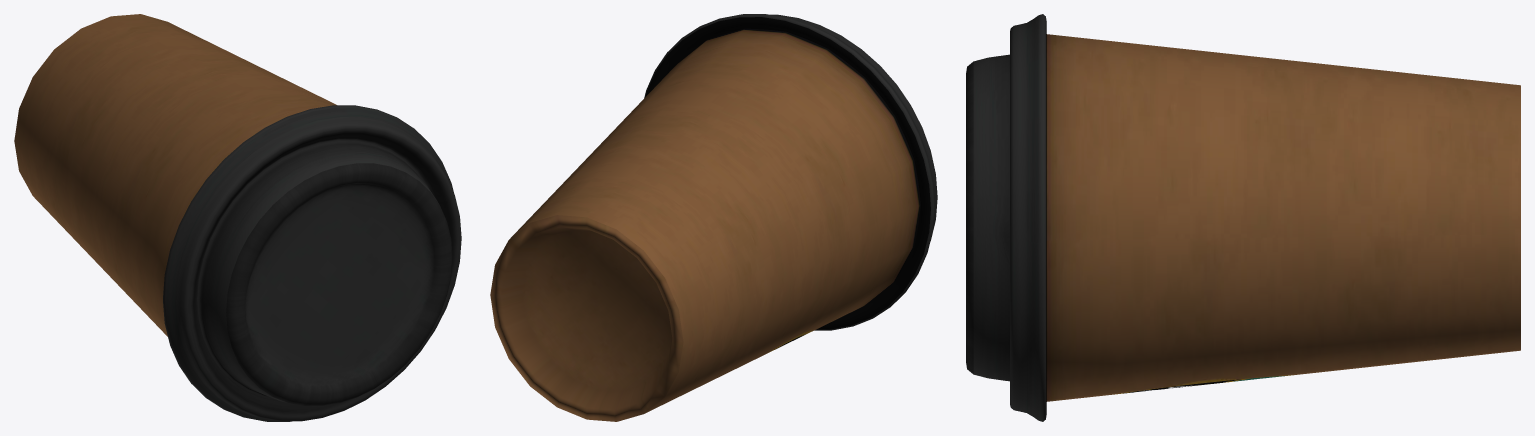
Rendered from coffee-transformed.glb.
3 renders of one model, left to right at view 1: azimuth 30°, elevation 25°; view 2: azimuth 150°, elevation 25°; view 3: azimuth 270°, elevation 25°, orthographic. The views are drawn at different scales.
Parts seen in each view (by area): view 1: Vaso de cafe; view 2: Vaso de cafe; view 3: Vaso de cafe.
Boxes of the visible parts, <box> form: Vaso de cafe: <box>14,14,461,421</box>; Vaso de cafe: <box>490,14,937,421</box>; Vaso de cafe: <box>966,14,1520,421</box>.
Bounding box in the file's own units: 0.0754 × 0.0754 × 0.1024.
Materials: 1 (1 with a texture image).
